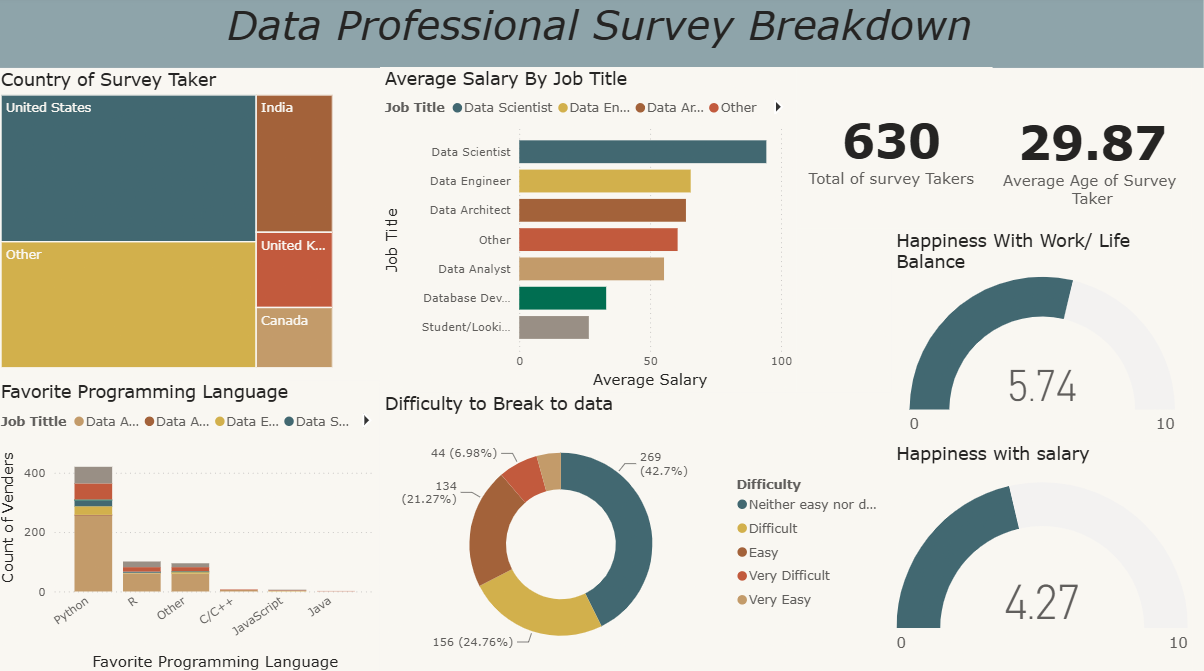

Layout of this report page (visuals, bound fields, positions):
{"tool":"powerbi","page":{"name":"Page 1","canvas":[1280,720],"ordinal":0},"visuals":[{"type":"textbox","box":[0,0,1280.5,77.6],"z":0},{"type":"card","fields":{"Values":["Count(Data Professional Survey.Unique ID)"]},"box":[841.5,76.1,215.1,171.2],"z":1000},{"type":"card","fields":{"Values":["Avg(Data Professional Survey.Q10 - Current Age)"]},"box":[1056.6,77.6,212.2,171.2],"z":2000},{"type":"barChart","title":"Average Salary By Job Title","fields":{"Category":["Data Professional Survey.Q1 - Which Title Best Fits your Current Role?.1"],"Series":["Data Professional Survey.Q1 - Which Title Best Fits your Current Role?.1"],"Y":["Avg(Data Professional Survey.Average Salary)"]},"box":[406.8,76.1,442,345.4],"z":3000},{"type":"columnChart","title":" Favorite Programming Language","fields":{"Category":["Data Professional Survey.Q5 - Favorite Programming Language.1"],"Series":["Data Professional Survey.Q1 - Which Title Best Fits your Current Role?.1"],"Y":["CountNonNull(Data Professional Survey.Unique ID)"]},"box":[0,408.3,406.8,311.7],"z":4000},{"type":"treemap","title":"Country of Survey Taker","fields":{"Group":["Data Professional Survey.Q11 - Which Country do you live in?.1"],"Values":["CountNonNull(Data Professional Survey.Q11 - Which Country do you live in?.1)"]},"box":[0,77.6,361.5,322],"z":5000},{"type":"gauge","title":"Happiness With Work/ Life Balance","fields":{"MaxValue":["Max(Data Professional Survey.Q6 - How Happy are you in your Current Position with the following? (Work/Life Balance))"],"MinValue":["Min(Data Professional Survey.Q6 - How Happy are you in your Current Position with the following? (Work/Life Balance))"],"Y":["Avg(Data Professional Survey.Q6 - How Happy are you in your Current Position with the following? (Work/Life Balance))"]},"box":[949.8,248.8,319,225.4],"z":6000},{"type":"gauge","title":"Happiness with salary","fields":{"MaxValue":["Max(Data Professional Survey.Q6 - How Happy are you in your Current Position with the following? (Salary))"],"MinValue":["Min(Data Professional Survey.Q6 - How Happy are you in your Current Position with the following? (Salary))"],"Y":["Avg(Data Professional Survey.Q6 - How Happy are you in your Current Position with the following? (Salary))"]},"box":[949.8,474.1,319,245.9],"z":7000},{"type":"donutChart","title":"Difficulty to Break to data","fields":{"Category":["Data Professional Survey.Q7 - How difficult was it for you to break into Data?"],"Y":["CountNonNull(Data Professional Survey.Q7 - How difficult was it for you to break into Data?)"]},"box":[406.8,421.5,542.9,298.5],"z":8001}]}

Visuals, with their boxes in screenshot pixels (x1, y1, x2, y2), scaled from the page's 1280x720 canvas onto the 1204x671 screenshot:
textbox: locate(0, 0, 1203, 72)
card - Count(Data Professional Survey.Unique ID): locate(792, 71, 994, 230)
card - Avg(Data Professional Survey.Q10 - Current Age): locate(994, 72, 1193, 232)
"Average Salary By Job Title" barChart: locate(383, 71, 798, 393)
" Favorite Programming Language" columnChart: locate(0, 381, 383, 670)
"Country of Survey Taker" treemap: locate(0, 72, 340, 372)
"Happiness With Work/ Life Balance" gauge: locate(893, 232, 1193, 442)
"Happiness with salary" gauge: locate(893, 442, 1193, 670)
"Difficulty to Break to data" donutChart: locate(383, 393, 893, 670)
